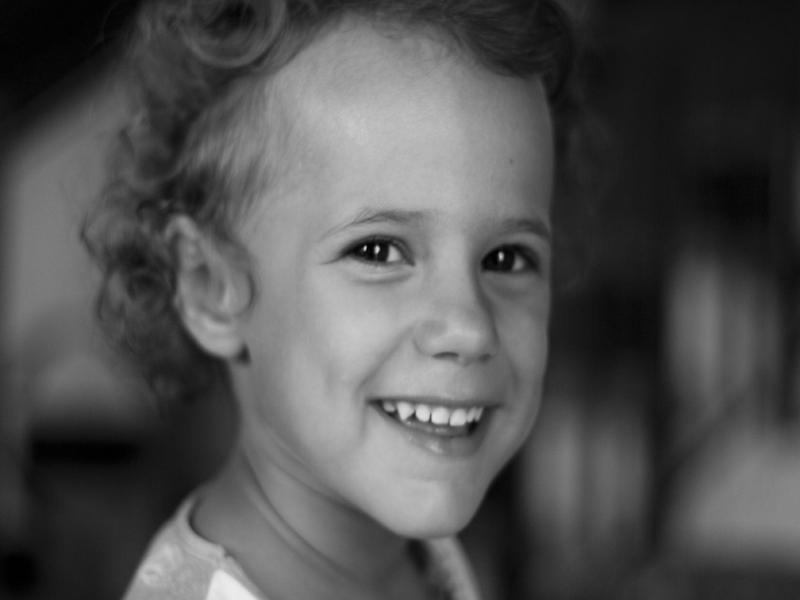person: (90, 1, 559, 600)
